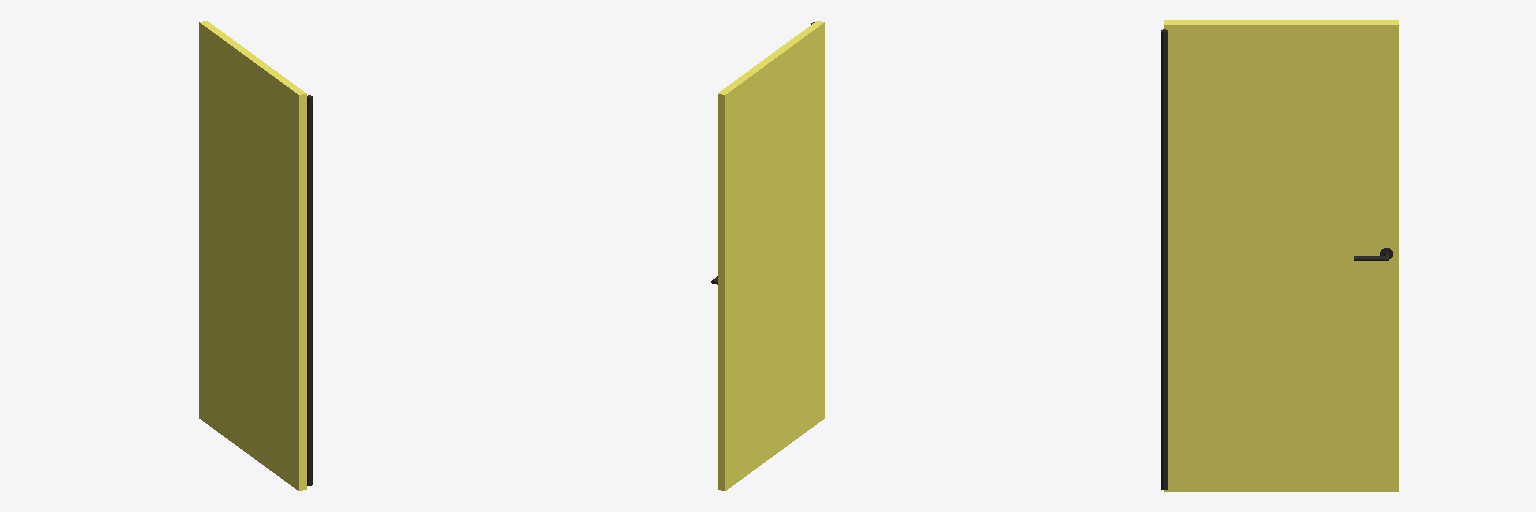
robot.urdf — door:
<?xml version="1.0" ?>
<robot name="door">
	<link name="base_link" />

	<link name="door">
		<inertial>
			<origin xyz="-0.00724 0.441 1.029" rpy="0 0 0" />
			<mass value="5."/>
			<inertia ixx="1" ixy="0" ixz="0"
			iyy="1" iyz="0"
			izz="1" />
		</inertial>
		<visual>
			<geometry>
				<mesh filename="package://mc_int_obj_description/meshes/door/door.dae" />
			</geometry>
		</visual>
	</link>

	<joint name="door" type="revolute">
		<axis xyz="0 0 1"/>
		<limit effort="0" velocity="100" lower="-3.141592653589793" upper="3.141592653589793" />
		<parent link="base_link" />
		<child link="door" />
		<origin rpy="0.0 0.0 0.0" xyz="0.0 0.0 0.0" />
	</joint>

	<link name="handle">
		<inertial>
			<origin xyz="0 -0.034 -0.015" rpy="0 0 0" />
			<mass value="0.200"/>
			<inertia ixx="1" ixy="0" ixz="0"
			iyy="1" iyz="0"
			izz="1" />
		</inertial>
		<visual>
			<geometry>
				<mesh filename="package://mc_int_obj_description/meshes/door/handle.dae" />
			</geometry>
		</visual>

	</link>
		<joint name="handle" type="revolute">
		<axis xyz="0 1 0"/>
		<limit effort="0" velocity="100" lower="-1.5707963267948966" upper="0.1" />
		<parent link="door" />
		<child link="handle" />
		<origin rpy="0.0 1.5707969665527344 1.5707969665527344" xyz="-0.007000000216066837 0.8799999952316284 1.0399999618530273" />
	</joint>
</robot>

--- Render facts (derived) ---
The picture shows the robot from 3 angles, left to right: view 1: azimuth 30°, elevation 25°; view 2: azimuth 150°, elevation 25°; view 3: azimuth 270°, elevation 25°; orthographic projection.
Model door with 3 links and 2 joints (2 revolute), rooted at base_link, posed every joint at zero.
Links seen in each view (by area): view 1: door; view 2: door; view 3: door.
Boxes of the visible links, x1=… form: door: x1=199, y1=21, x2=312, y2=490; door: x1=718, y1=21, x2=824, y2=490; door: x1=1161, y1=20, x2=1398, y2=491.
Size in the robot's own frame: 0.098 by 0.945 by 2.04 metres.
Meshes: 2 distinct files referenced, 2 mesh visuals loaded (2 Collada DAE).